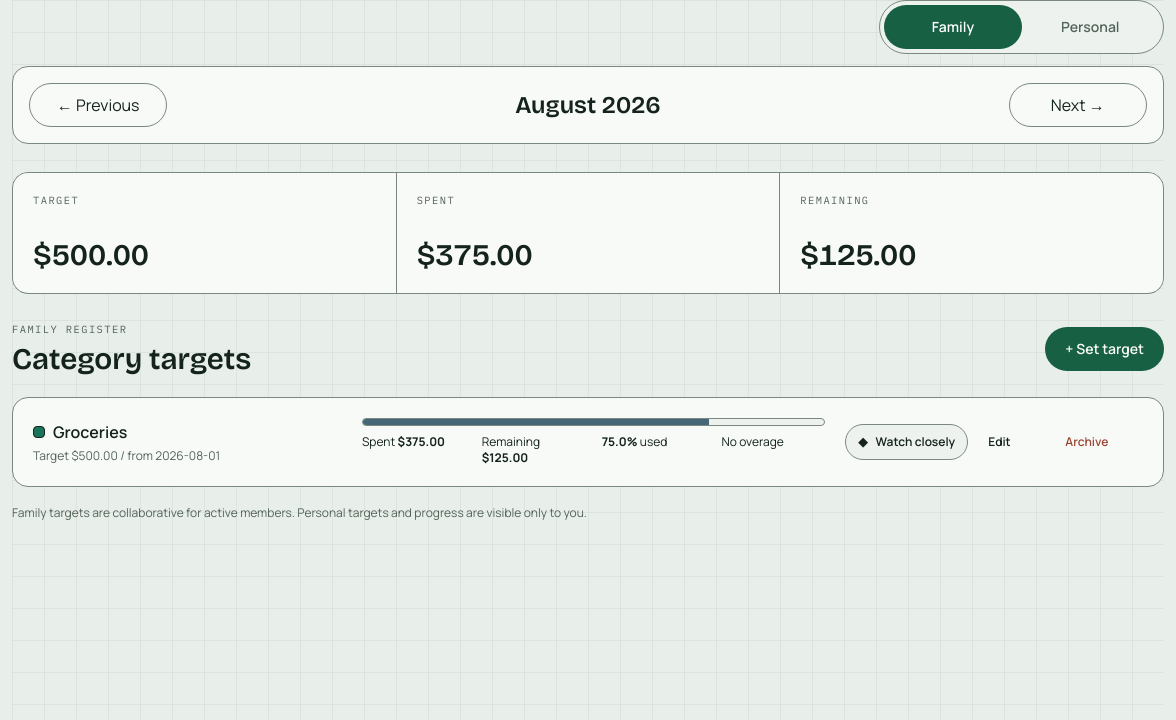
Test case: GH-10 monthly budget workbench acceptance › FE-002 edits then archives by explicit effective month while historical month remains unchanged
Click the button "Edit" at (999, 442), box x1=976 y1=424 x2=1023 y2=460
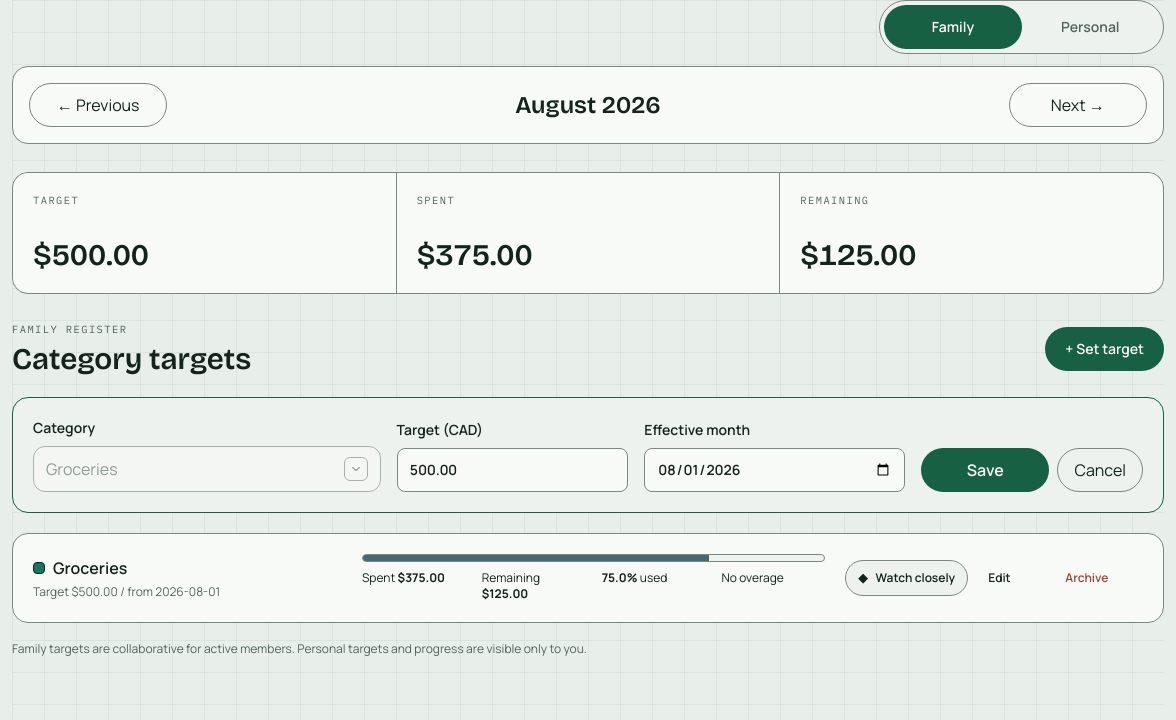
Replace the text in the field with test id "budget-amount" with "600.00" at (512, 470), box x1=397 y1=448 x2=628 y2=492
Type "2026-09-01" into the date field with test id "budget-effective-month" at (775, 470), box x1=644 y1=448 x2=905 y2=492
Click the button with test id "budget-save" at (985, 470), box x1=921 y1=448 x2=1050 y2=492
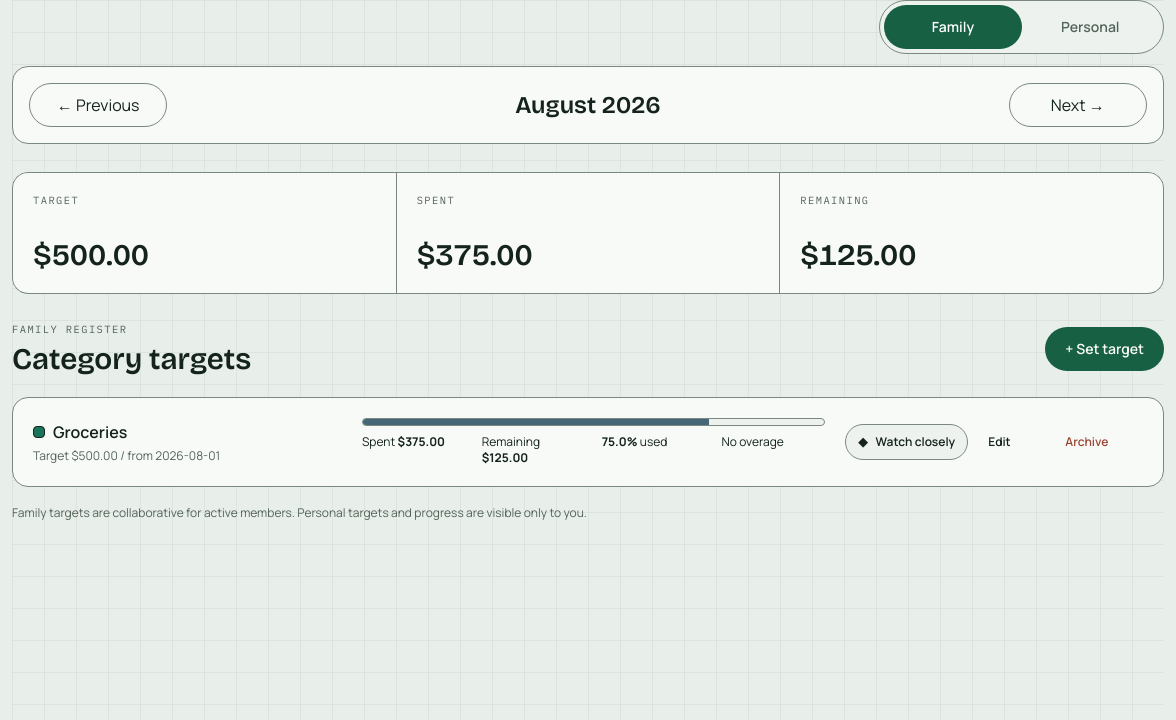
Expected: the element with test id "budget-target-list" shows "500.00", x1=71 y1=447 x2=118 y2=464
Click the button with test id "budget-next-month" at (1078, 105), box x1=1009 y1=83 x2=1147 y2=127
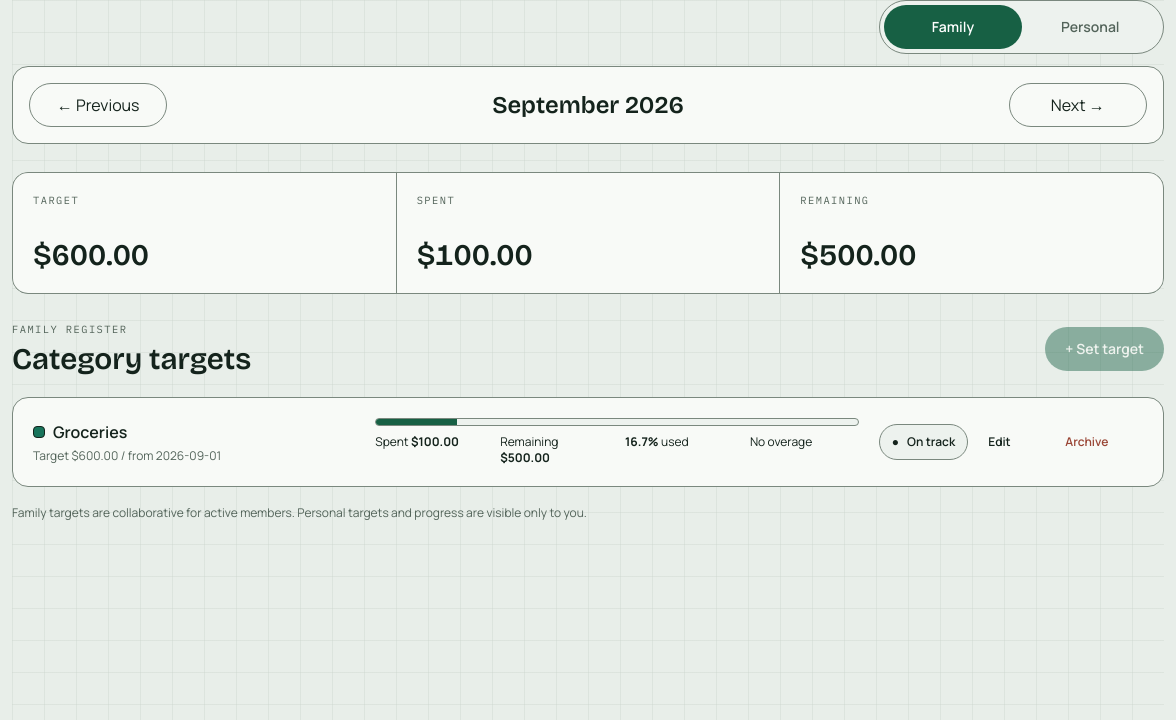
Now the element with test id "budget-target-list" shows "600.00", box x1=71 y1=447 x2=118 y2=464
Now the text with test id "budget-month" reads "September 2026", box x1=492 y1=91 x2=684 y2=119
Click the button with test id "budget-next-month" at (1078, 105), box x1=1009 y1=83 x2=1147 y2=127
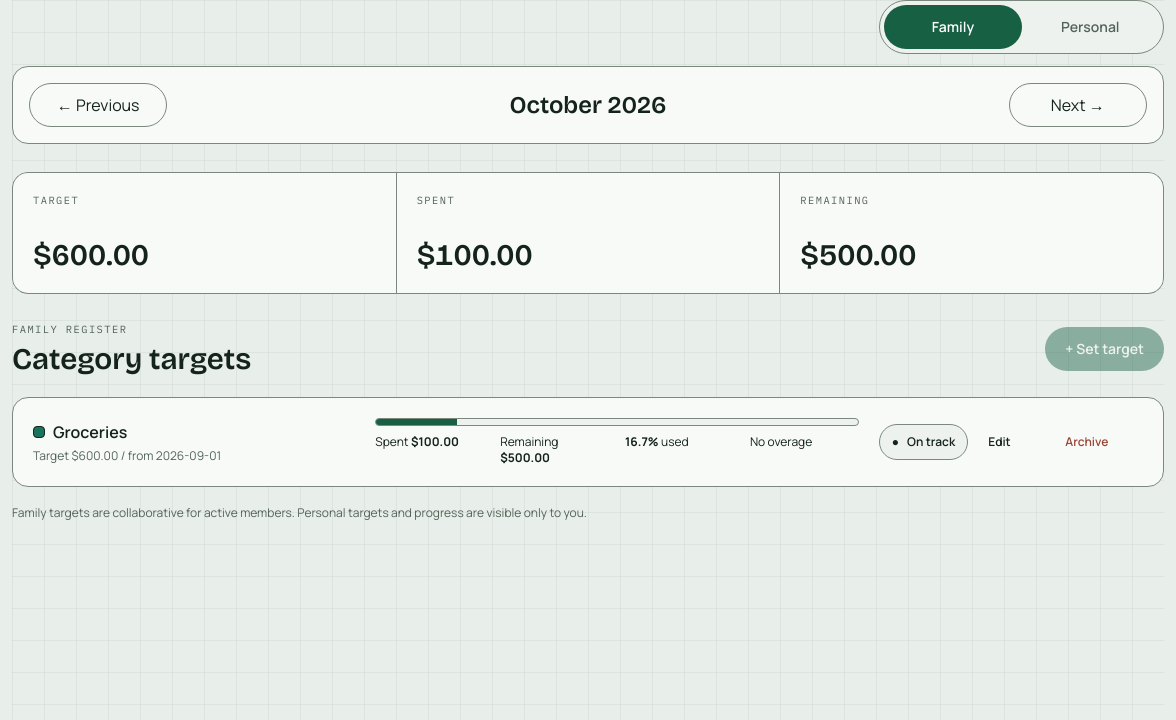
Now the text with test id "budget-month" reads "October 2026", box x1=510 y1=91 x2=666 y2=119
Click the button "Archive" at (1087, 442), box x1=1031 y1=424 x2=1143 y2=460
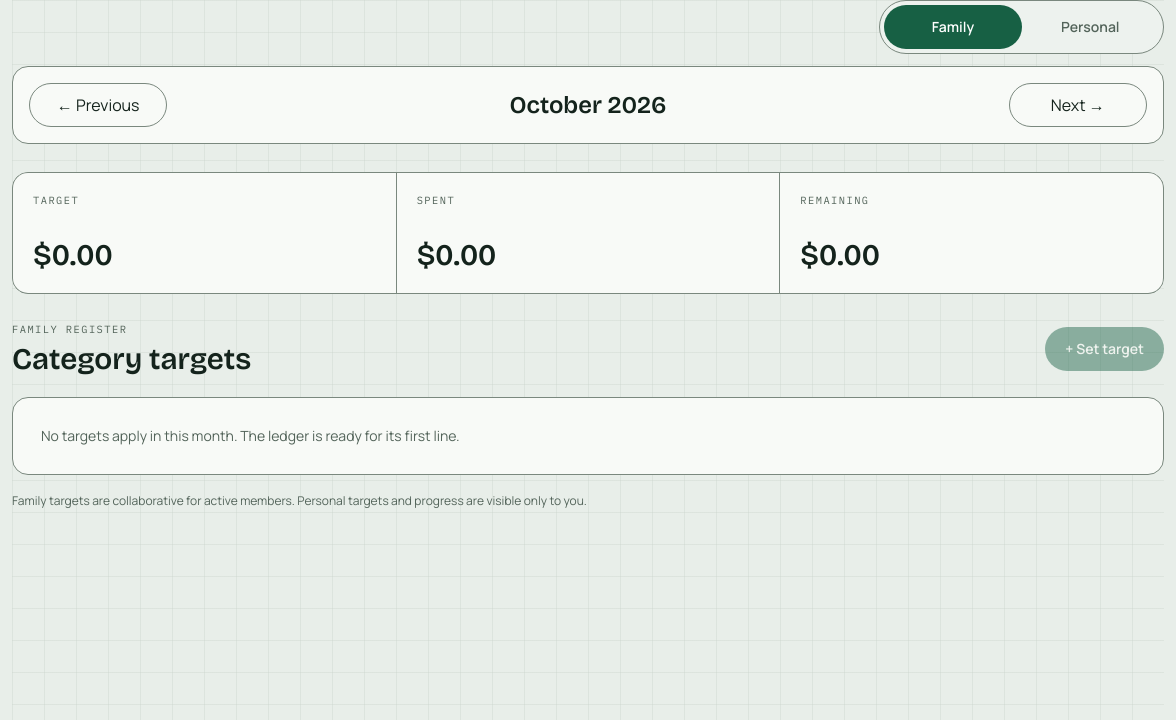
Now the element with test id "budget-target-list" no longer shows "Groceries", box x1=12 y1=397 x2=1164 y2=475
Click the button with test id "budget-previous-month" at (98, 105), box x1=29 y1=83 x2=167 y2=127
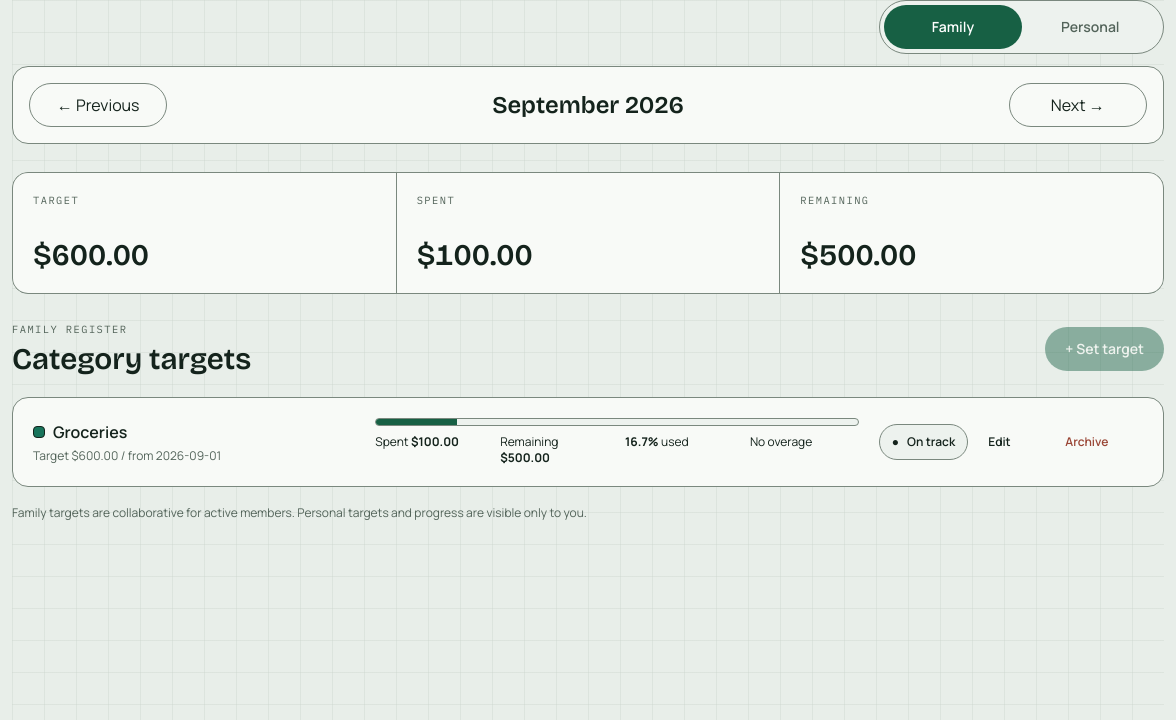
Now the element with test id "budget-target-list" shows "600.00", box x1=71 y1=447 x2=118 y2=464
